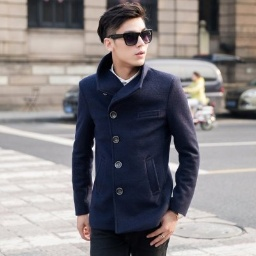face: (99, 2, 150, 68)
